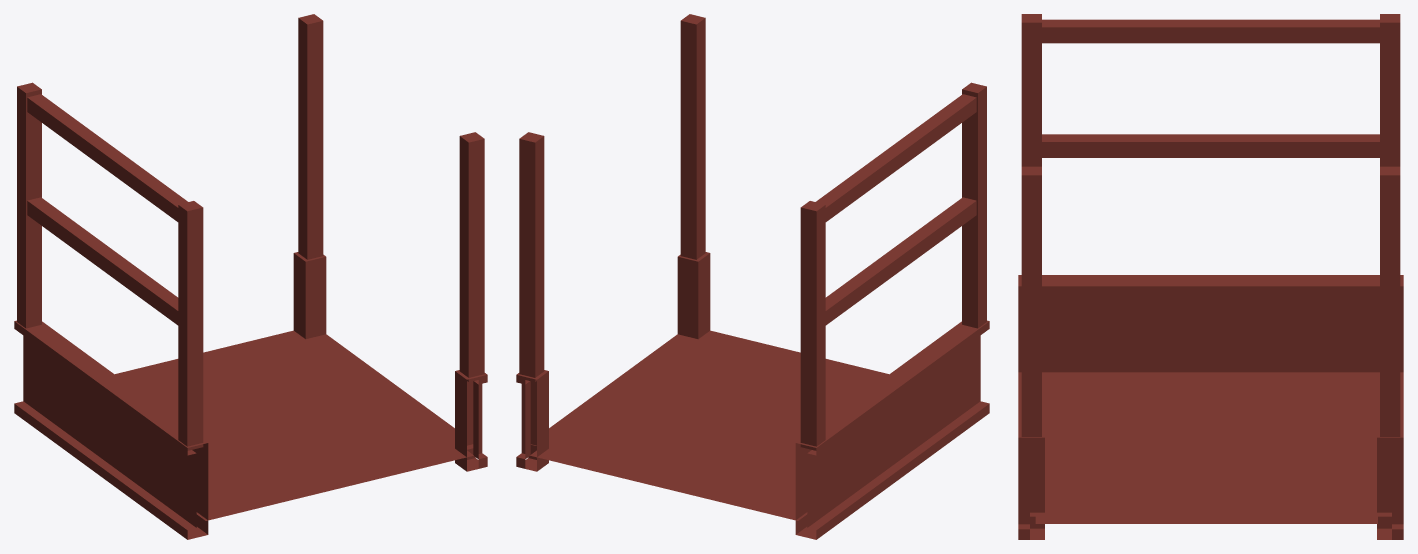
Rendered from Industrial catwalk walk way 6.fbx.
3 renders of one model, left to right at view 1: azimuth 30°, elevation 25°; view 2: azimuth 150°, elevation 25°; view 3: azimuth 270°, elevation 25°, orthographic. The views are drawn at different scales.
Parts seen in each view (by area): view 1: polySurface118; view 2: polySurface118; view 3: polySurface118.
Boxes of the visible parts, x1,y1,x2,y2 form: polySurface118: (14,14,487,539); polySurface118: (516,14,989,539); polySurface118: (1018,14,1403,539).
Bounding box in the file's own units: 129 × 134 × 129.
